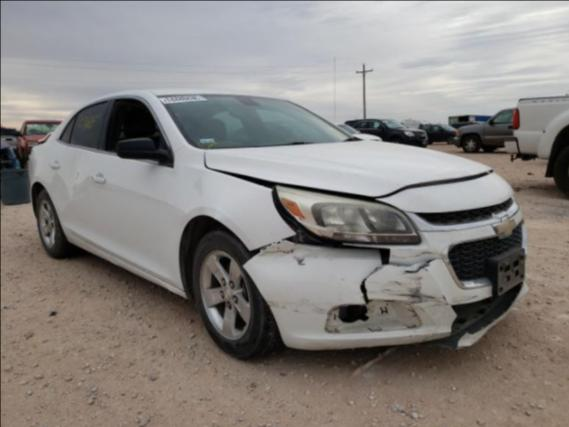Broken part: (243, 167, 528, 351), (208, 163, 377, 234)
Dent: (258, 241, 380, 260), (370, 281, 445, 308), (389, 250, 442, 271)
Missing part: (101, 98, 172, 164), (327, 301, 417, 332), (498, 248, 523, 294)
Paint chip: (404, 257, 438, 273), (267, 298, 281, 307), (294, 255, 305, 265), (325, 326, 339, 333), (379, 305, 388, 314), (408, 309, 417, 317), (403, 323, 416, 328), (366, 327, 382, 331), (383, 299, 395, 302), (333, 313, 336, 321)
Scratch: (391, 250, 441, 258), (259, 244, 296, 253), (390, 292, 436, 298), (389, 260, 410, 267), (464, 294, 476, 301), (441, 294, 448, 304), (393, 279, 402, 286), (290, 307, 299, 312), (379, 288, 392, 290)
